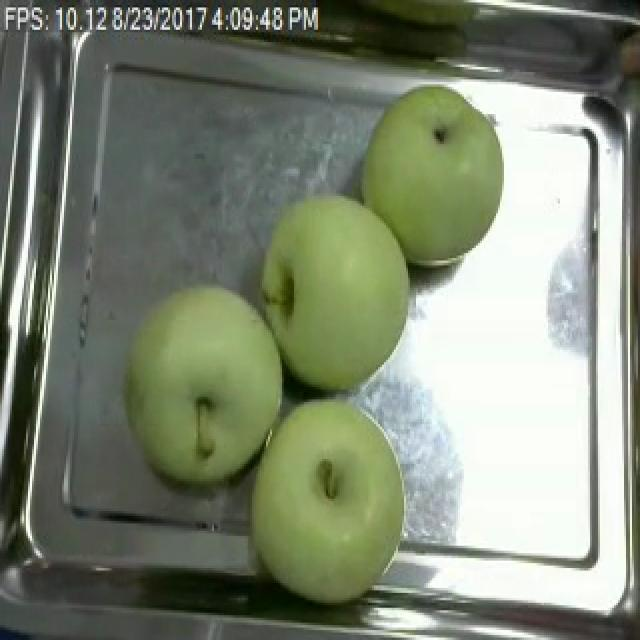50-_ripeness: (252, 388, 408, 612), (249, 192, 427, 385), (123, 283, 280, 483), (363, 81, 510, 261)
